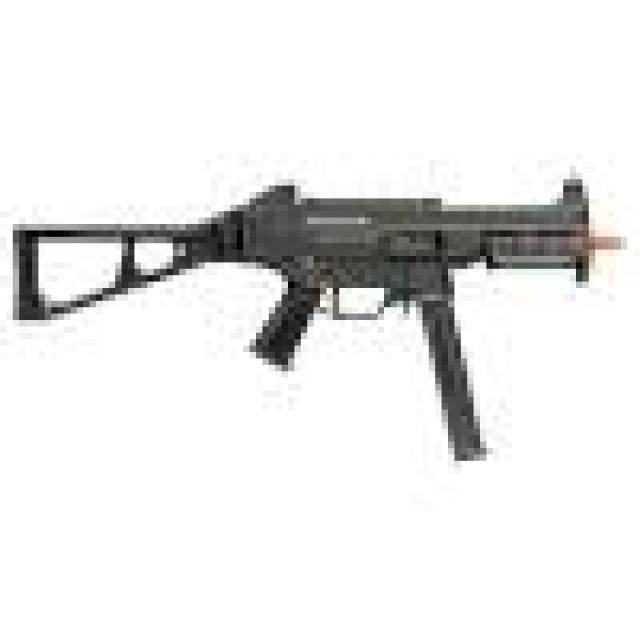Gun: (9, 150, 640, 482)
